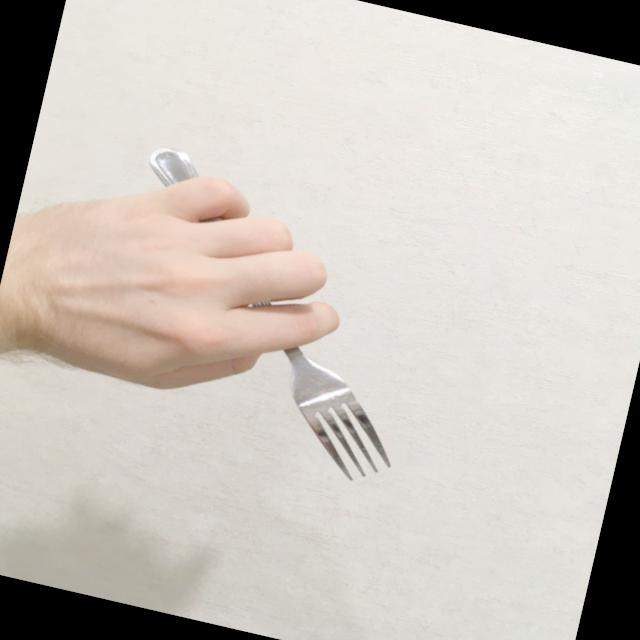fork: (88, 143, 450, 490)
